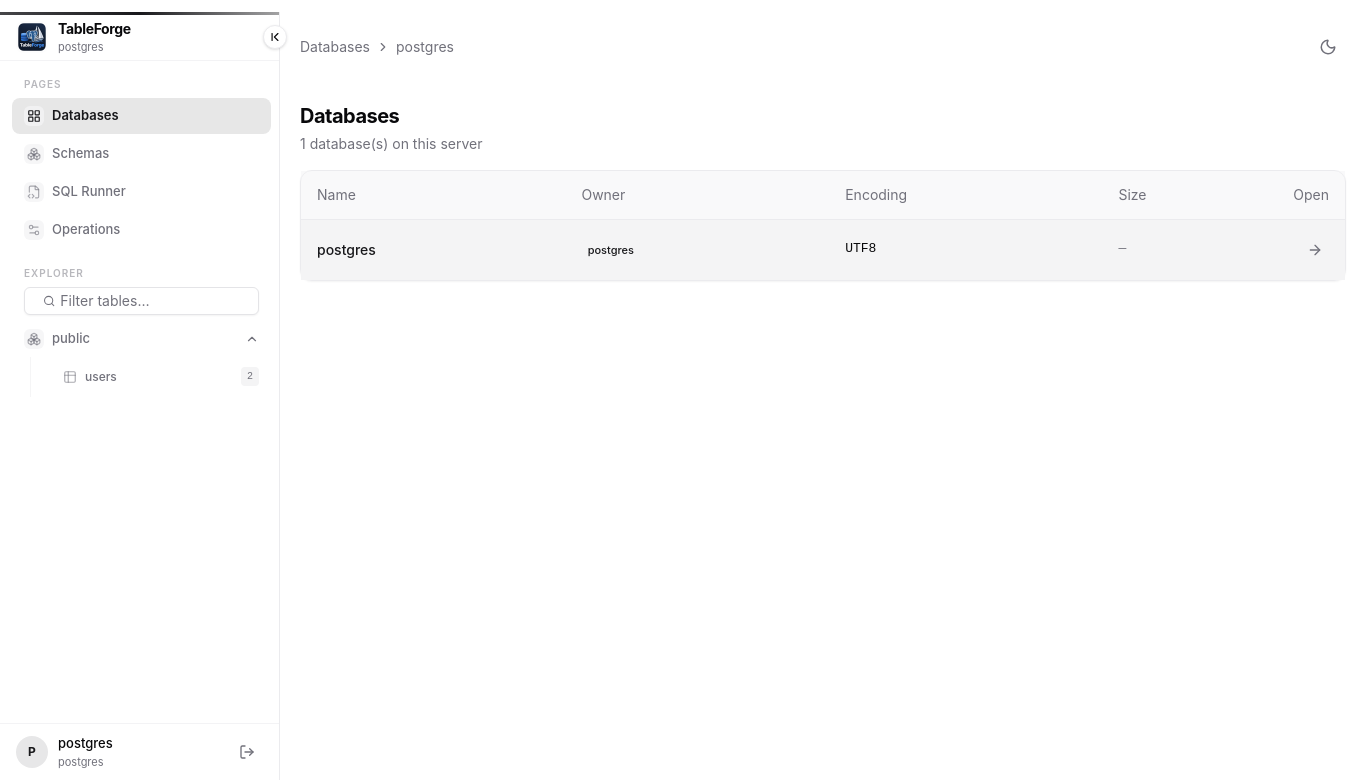
Test: app shell › sidebar nav navigates between pages
The width and height of the screenshot is (1366, 780).
Expected: the 2nd heading "Databases" is shown, x1=300 y1=104 x2=399 y2=128
Click the button "SQL Runner": (142, 192) x1=12 y1=174 x2=271 y2=210
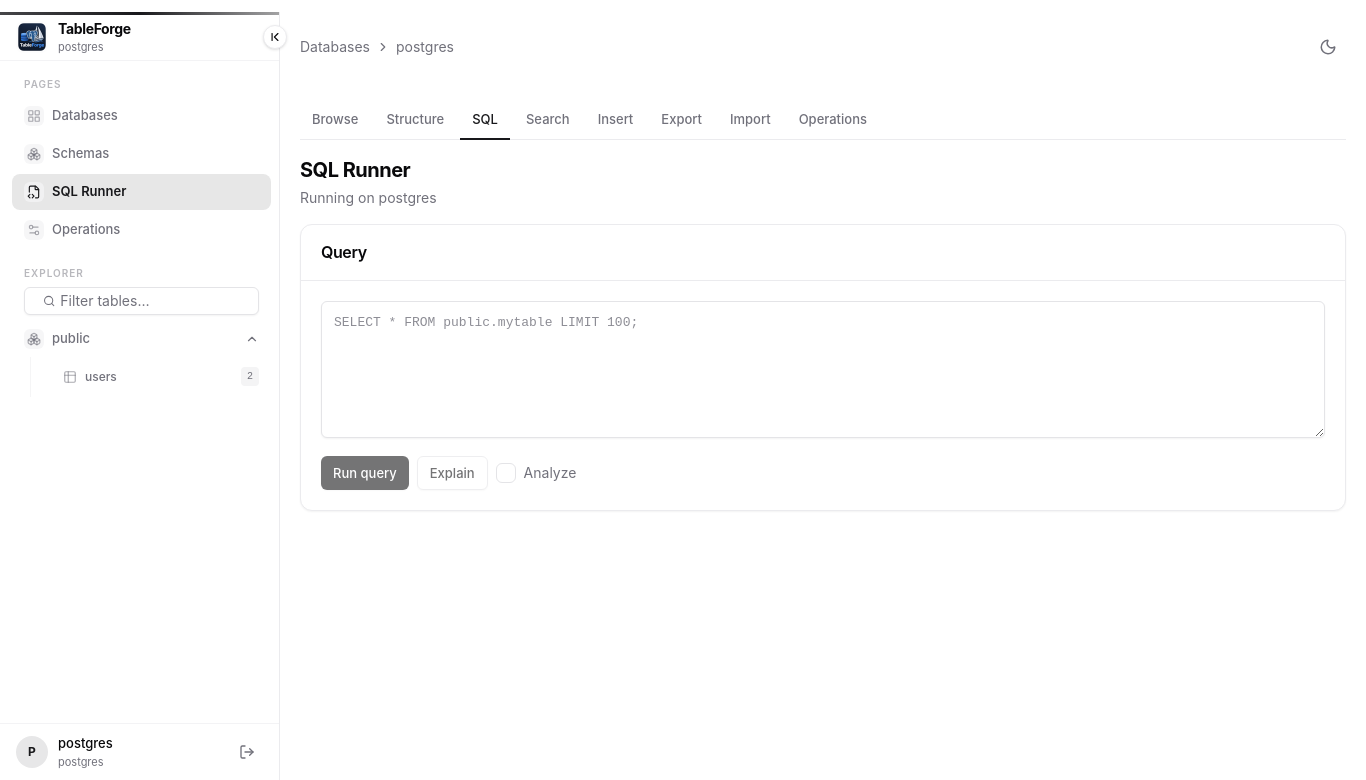
Now the heading "SQL Runner" below "Browse" is shown, box x1=300 y1=158 x2=410 y2=182
